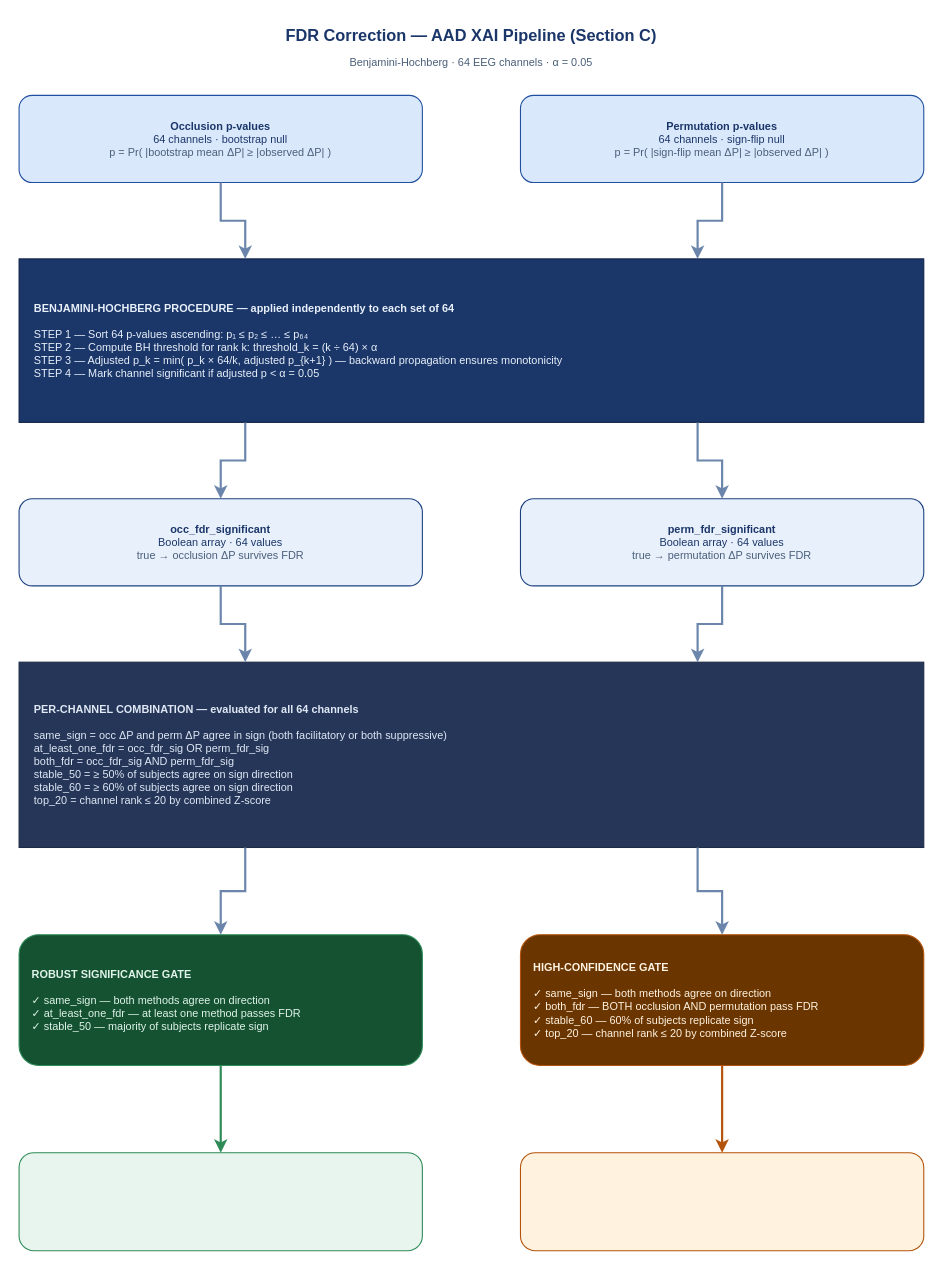
Some shapes in this 943 by 1270 pixel diagram are drawn without their labels. The shapes that lost their labels are listed below. From the top down, each one's centre as x and y in pixels, then its label:
the point at 220,1201: ~45 / 64 Robust Channels Broader set · spatial, ROI, frequency analysis
the point at 721,1201: ~10–15 / 64 High-Confidence Channels Strict subset · supervisor-ready claims
